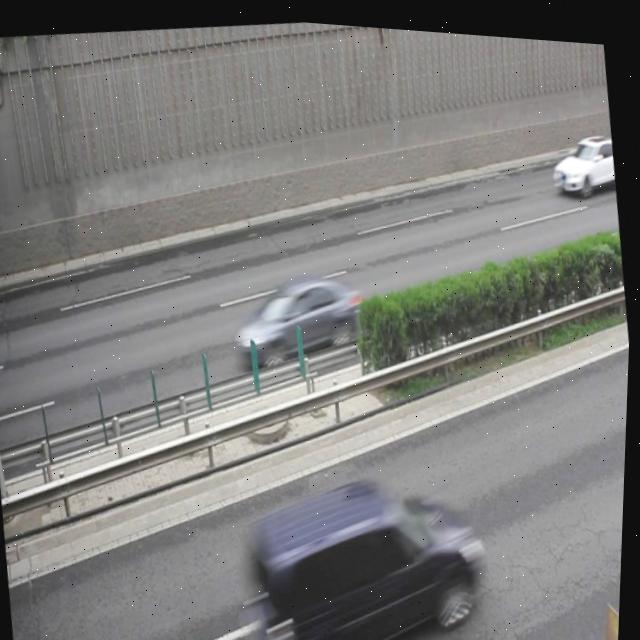car: (229, 260, 374, 369), (547, 118, 619, 188)
truck: (237, 446, 496, 640)
